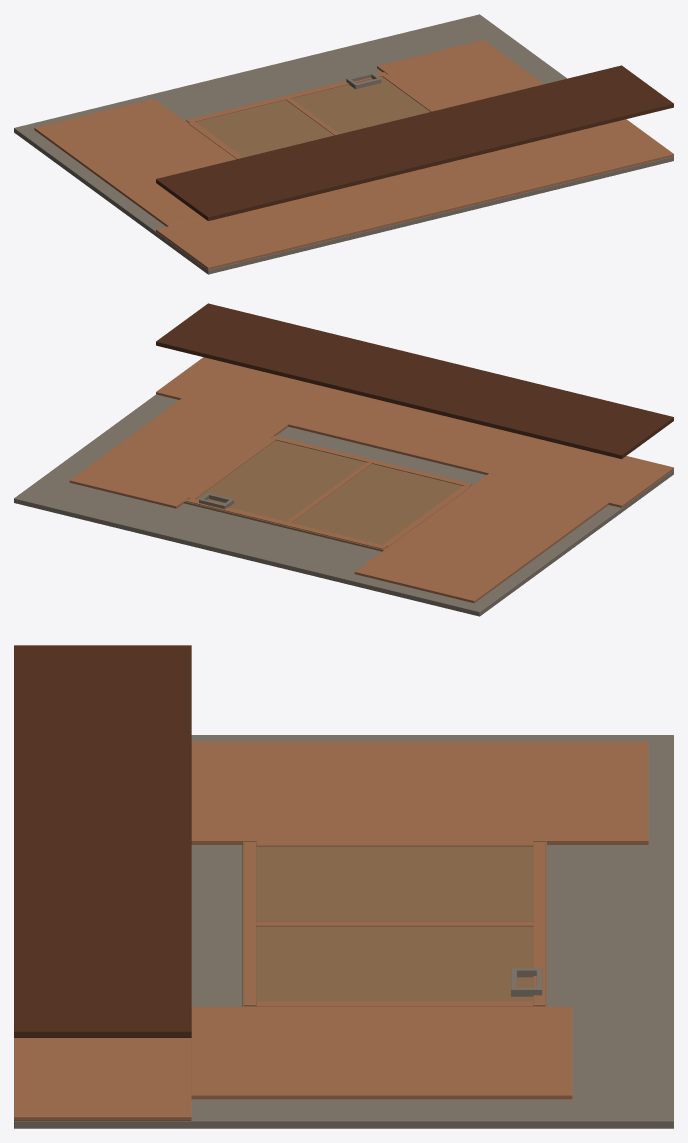
File: EXP_Foundation_Floors_ArchitecturalFix.fbx
3 views of the same model, one above another, from view 1: azimuth 30°, elevation 25°; view 2: azimuth 150°, elevation 25°; view 3: azimuth 270°, elevation 25° (orthographic). The views are drawn at different scales.
Visible parts, largest first — view 1: EXP_Foundation_Floors.001; view 2: EXP_Foundation_Floors.001; view 3: EXP_Foundation_Floors.001.
Boxes of the visible parts, x1=… form: EXP_Foundation_Floors.001: x1=14, y1=14, x2=673, y2=274; EXP_Foundation_Floors.001: x1=14, y1=303, x2=673, y2=616; EXP_Foundation_Floors.001: x1=14, y1=645, x2=673, y2=1128.
Size of the model in its own units: 3600 by 2600 by 425.
